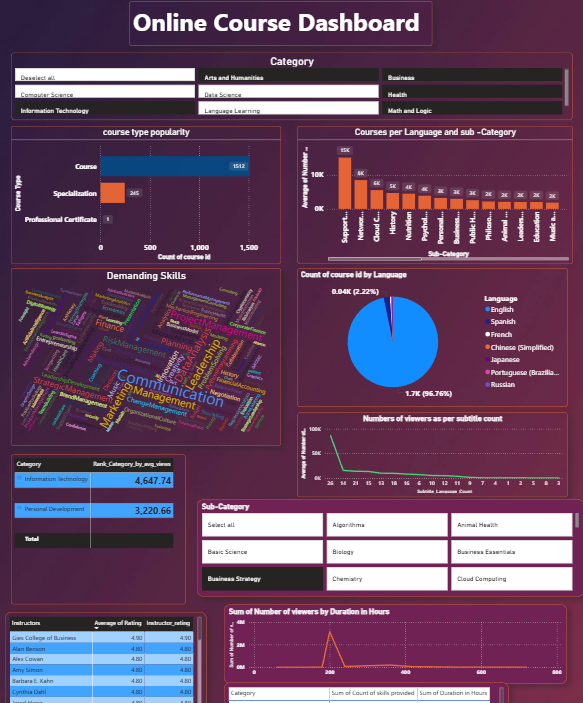

The dashboard page shown, as its layout file describes it:
{"tool":"powerbi","page":{"name":"Page 1","canvas":[1300,1700],"ordinal":0},"visuals":[{"type":"textbox","box":[289.7,15.5,672.4,98.3],"z":1},{"type":"barChart","title":"course type popularity","fields":{"Category":["Online_Courses.Course Type"],"Y":["Online_Courses.course id"]},"box":[25.9,294.8,600,306.9],"z":3},{"type":"columnChart","title":"Courses per Language and sub -Category","fields":{"Category":["Online_Courses.Sub-Category"],"Y":["Online_Courses.Number of viewers"]},"box":[662.1,294.8,612.1,306.9],"z":4},{"type":"WordCloud1447959067750","title":"Demanding Skills","fields":{"Category":["Online_Courses.Skills"]},"box":[25.9,610.3,600,393.1],"z":5},{"type":"pieChart","fields":{"Category":["Online_Courses.Language"],"Y":["Online_Courses.course id"]},"box":[662.1,610.3,600,306.9],"z":6},{"type":"pivotTable","fields":{"Rows":["Online_Courses.Category","Online_Courses.Language"],"Values":["Online_Courses.Rank_Category_by_avg_views"]},"box":[25.9,1022.4,387.9,332.8],"z":7},{"type":"advancedSlicerVisual","fields":{"Values":["Online_Courses.Category"]},"box":[25.9,129.3,1248.3,150],"z":8},{"type":"lineChart","title":"Numbers of viewers as per subtitle count","fields":{"Category":["Online_Courses.Subtitle_Language_Count"],"Y":["Online_Courses.Number of viewers"]},"box":[662.1,929.3,600,187.9],"z":9},{"type":"pivotTable","fields":{"Rows":["Teachers.Instructors"],"Values":["Teachers.Rating","Teachers.Instructor_rating"]},"box":[13.8,1372.4,448.3,267.2],"z":10},{"type":"advancedSlicerVisual","fields":{"Values":["Teachers.Sub-Category"]},"box":[439.7,1124.1,860.3,215.5],"z":11},{"type":"lineChart","fields":{"Category":["Online_Courses.Duration in Hours"],"Y":["Online_Courses.Number of viewers"]},"box":[500,1355.2,762.1,175.9],"z":12},{"type":"pivotTable","fields":{"Rows":["Online_Courses.Category","Online_Courses.Sub-Category"],"Values":["Online_Courses.Count  of skills provided","Online_Courses.Duration in Hours"]},"box":[500,1531,632.8,169],"z":13}]}

Visuals, with their boxes on the page's 1300x1700 design canvas (x1, y1, x2, y2). These are canvas units, not pixel positions in the 583x703 screenshot, which may show the page scaled, cropped or inside an application window:
textbox: box(290, 16, 962, 114)
"course type popularity" barChart: box(26, 295, 626, 602)
"Courses per Language and sub -Category" columnChart: box(662, 295, 1274, 602)
"Demanding Skills" WordCloud1447959067750: box(26, 610, 626, 1003)
pieChart - Online_Courses.Language x Online_Courses.course id: box(662, 610, 1262, 917)
pivotTable - Online_Courses.Category x Online_Courses.Language: box(26, 1022, 414, 1355)
advancedSlicerVisual - Online_Courses.Category: box(26, 129, 1274, 279)
"Numbers of viewers as per subtitle count" lineChart: box(662, 929, 1262, 1117)
pivotTable - Teachers.Instructors x Teachers.Rating: box(14, 1372, 462, 1640)
advancedSlicerVisual - Teachers.Sub-Category: box(440, 1124, 1300, 1340)
lineChart - Online_Courses.Duration in Hours x Online_Courses.Number of viewers: box(500, 1355, 1262, 1531)
pivotTable - Online_Courses.Category x Online_Courses.Sub-Category: box(500, 1531, 1133, 1700)
